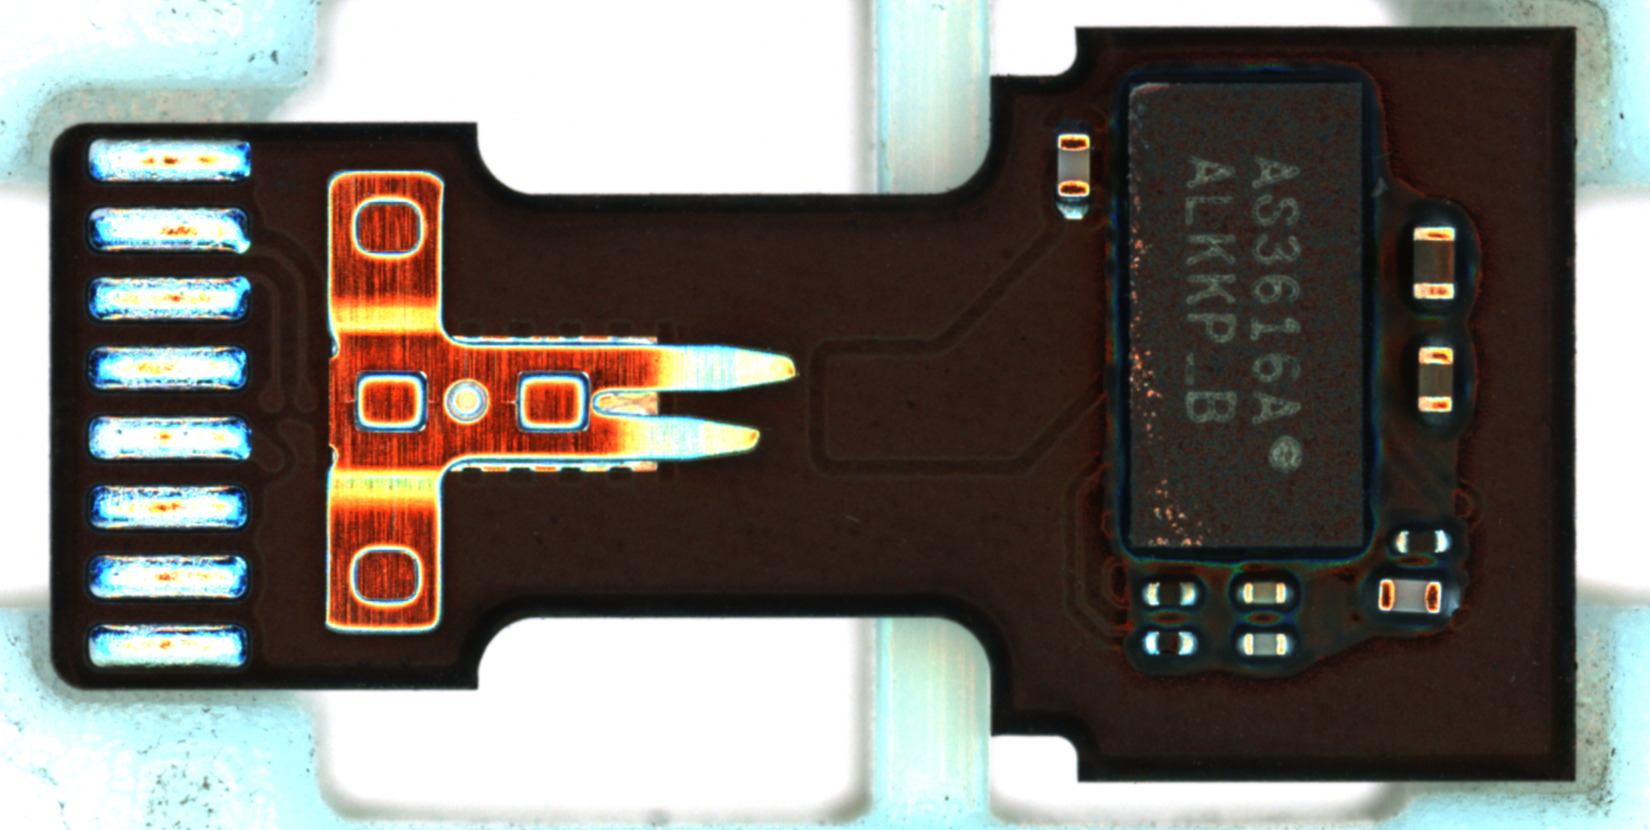u1_damage: (1104, 62, 1391, 573)
